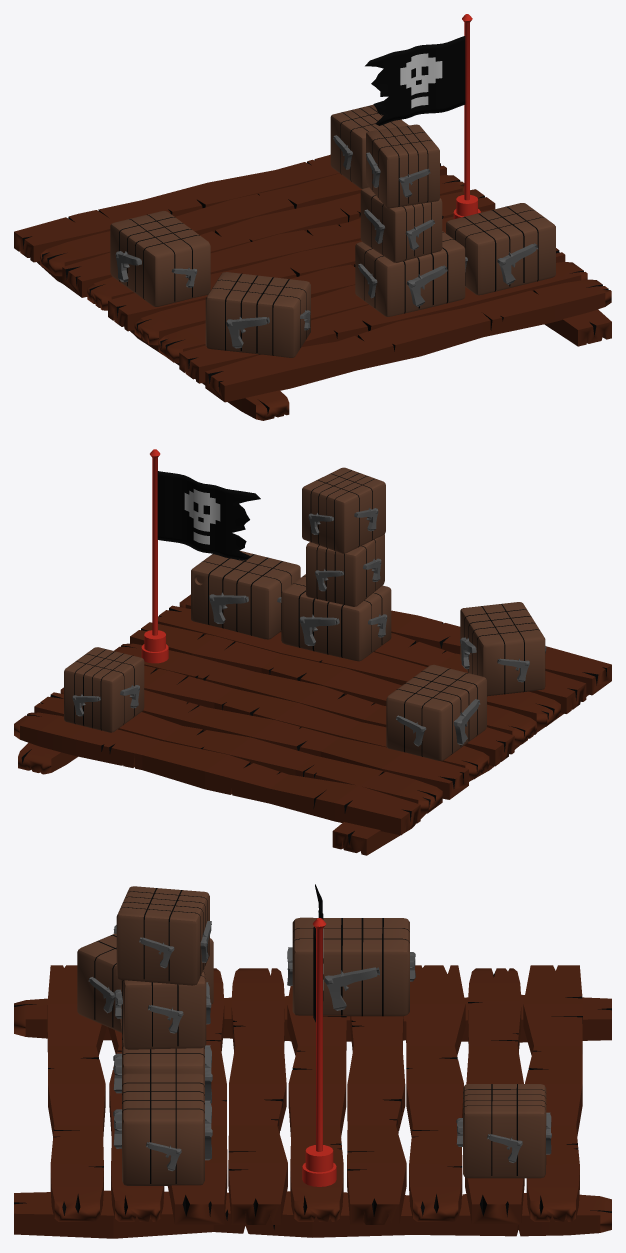
File: plataforma_N.fbx
The picture shows the model from 3 angles, top to bottom: view 1: azimuth 30°, elevation 25°; view 2: azimuth 150°, elevation 25°; view 3: azimuth 270°, elevation 25°; orthographic projection. The views are drawn at different scales.
Parts seen in each view (by area): view 1: plataforma_C; view 2: plataforma_C; view 3: plataforma_C.
Boxes of the visible parts, left/top/right/bottom form: plataforma_C: left=14, top=14, right=611, bottom=420; plataforma_C: left=14, top=449, right=611, bottom=855; plataforma_C: left=14, top=884, right=611, bottom=1238.
Size of the model in its own units: 300 by 177 by 318.
